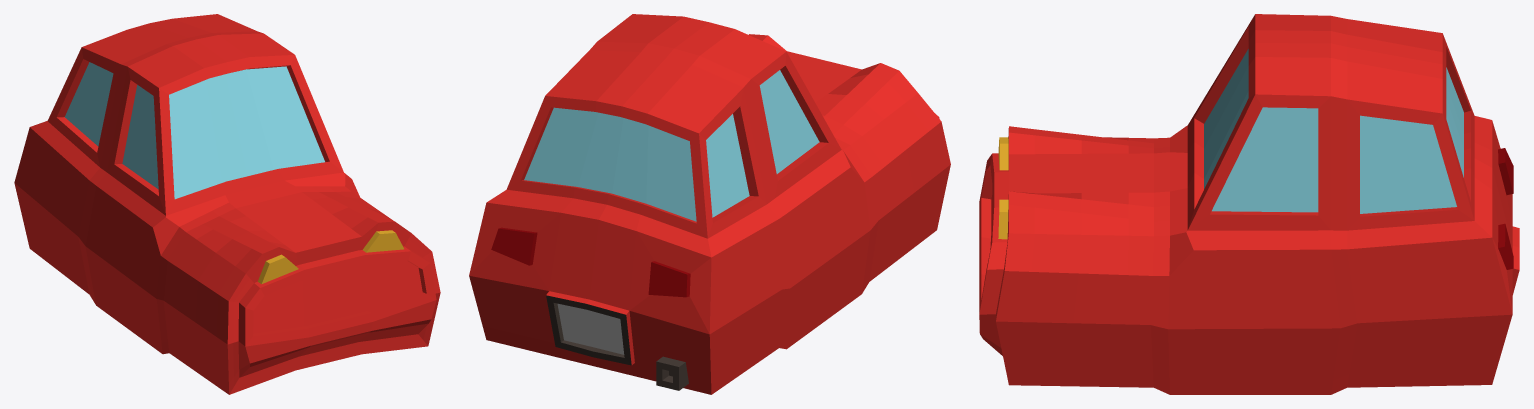
Rendered from piece_textured.glb.
3 views of the same model, side by side, from view 1: azimuth 30°, elevation 25°; view 2: azimuth 150°, elevation 25°; view 3: azimuth 270°, elevation 25° (orthographic). The views are drawn at different scales.
Parts seen in each view (by area): view 1: body; view 2: body; view 3: body.
Boxes of the visible parts, x1=… form: body: x1=14, y1=14, x2=440, y2=394; body: x1=469, y1=14, x2=950, y2=394; body: x1=979, y1=14, x2=1519, y2=394.
Size of the model in its own units: 1.23 by 1.34 by 2.24.
